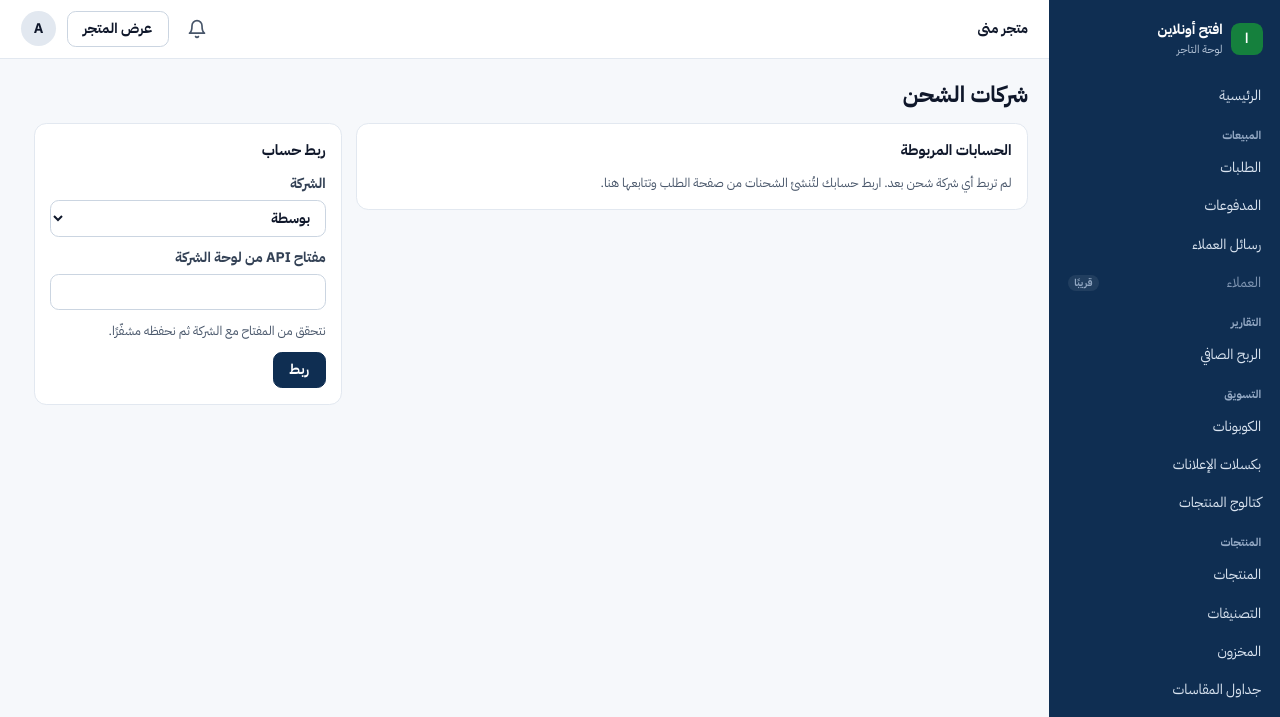
Test case: Carriers › connects an account and shows the webhook secret once
Type "bosta-key" into the password field labelled "مفتاح API من لوحة الشركة" at (188, 292), box left=50, top=274, right=326, bottom=310
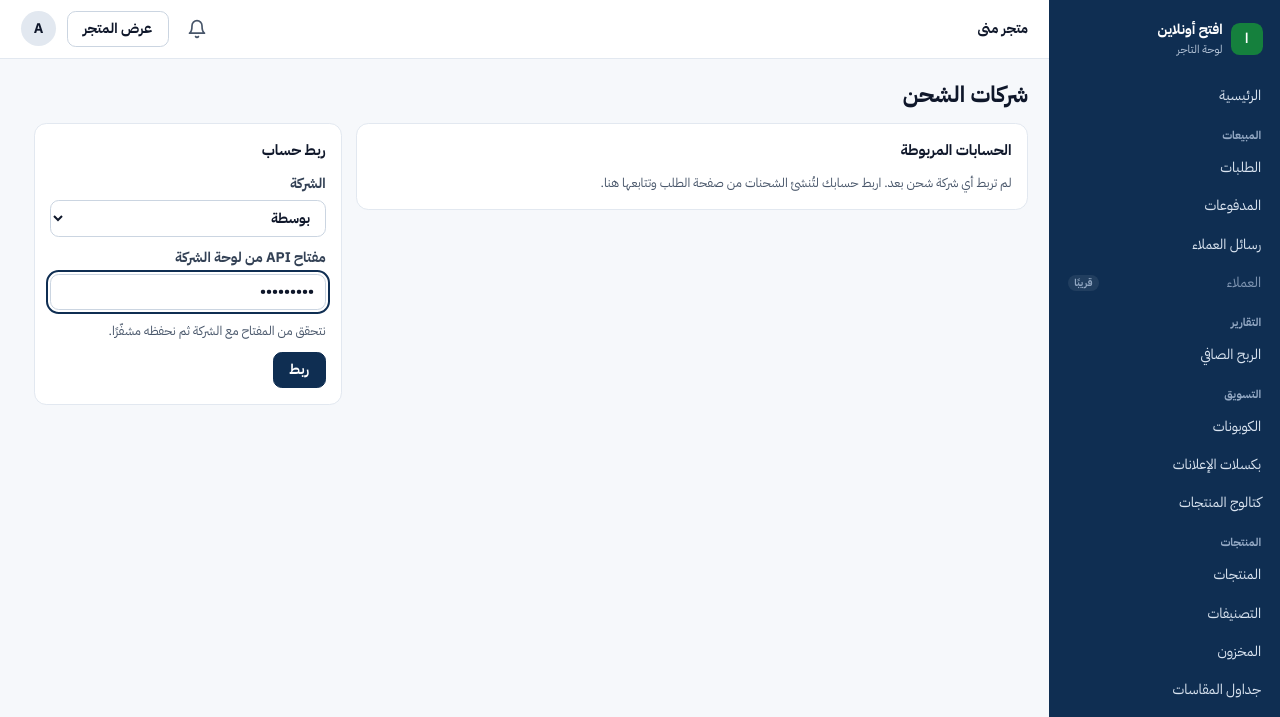
Click the button "ربط" at (299, 370), box left=273, top=352, right=326, bottom=388
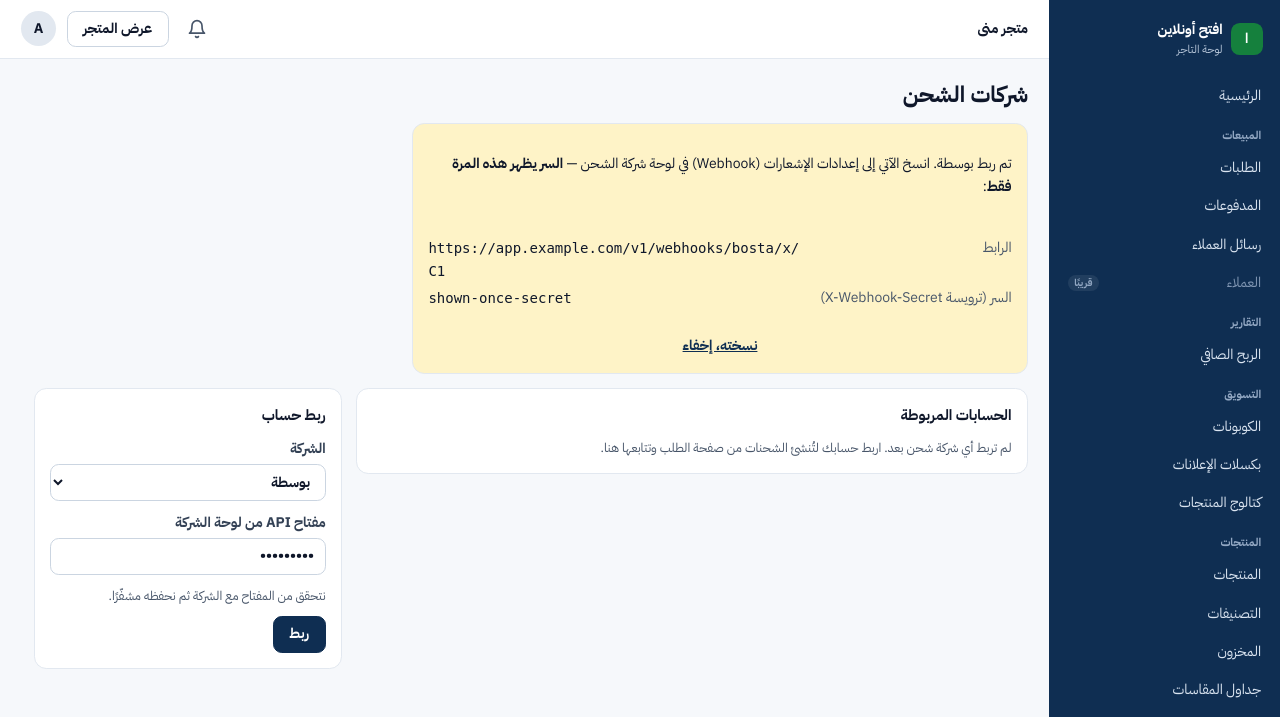
Expected: the text "shown-once-secret" is shown, left=428, top=290, right=572, bottom=306
Click the button "نسخته، إخفاء" at (720, 346), box left=428, top=335, right=1012, bottom=357
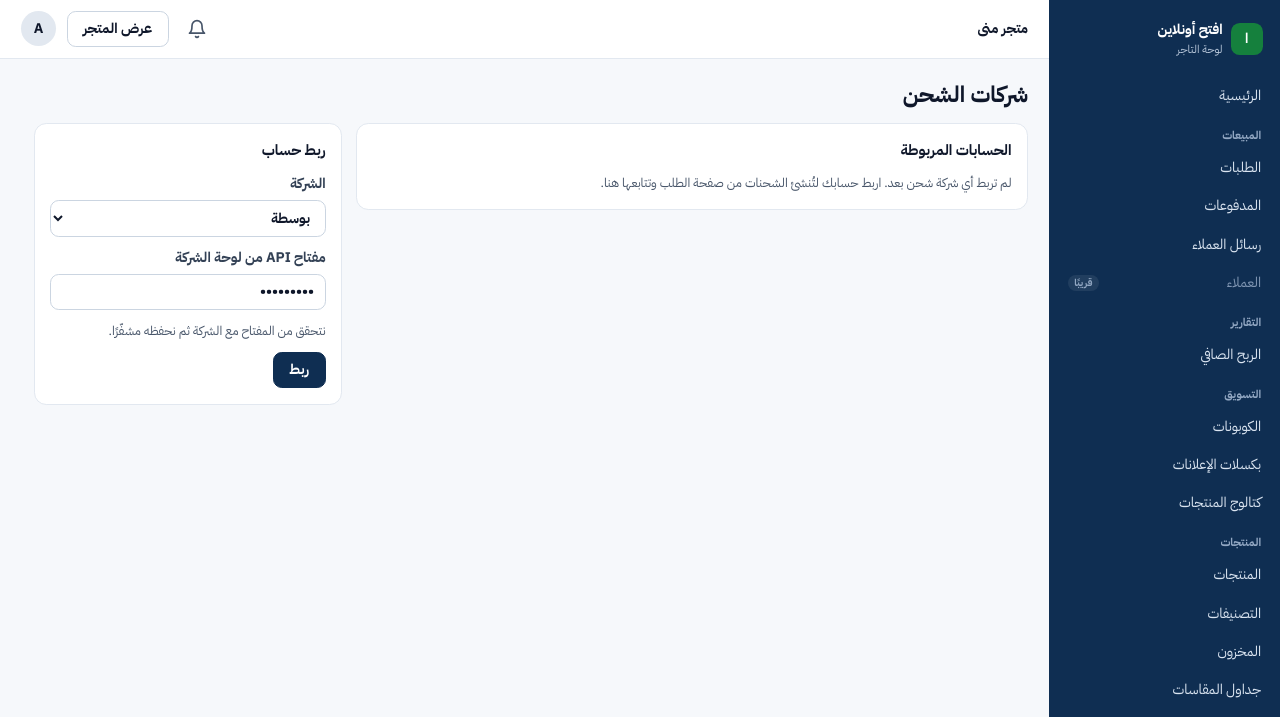
Expected: the text "shown-once-secret" is gone
